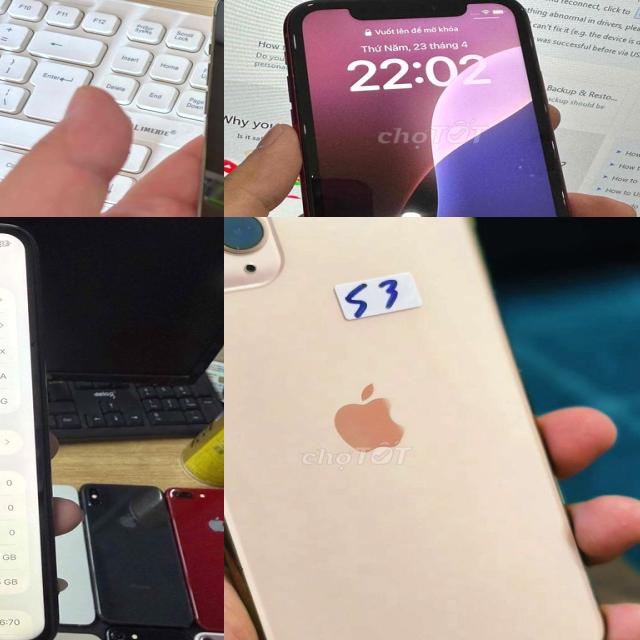gen_11: (224, 217, 606, 640), (0, 224, 56, 640)
gen_x_xs: (285, 0, 570, 217)
